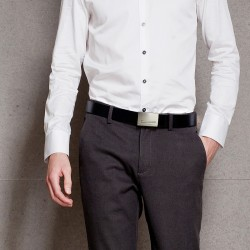F_belt: (79, 95, 212, 135)
F_dress pants: (74, 121, 210, 246)
F_shirt: (40, 1, 240, 162)
